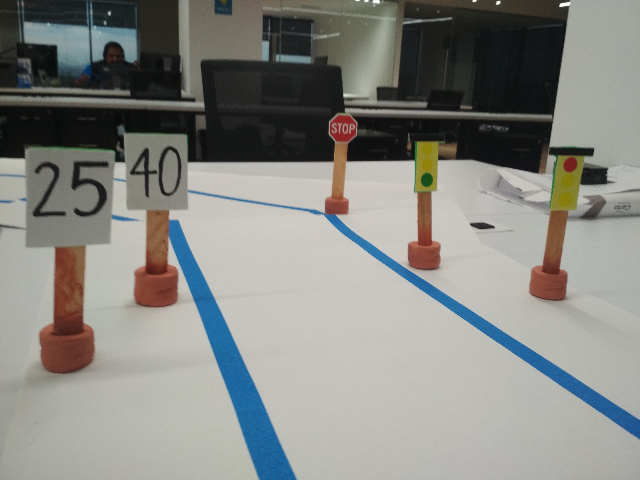Green Traffic Light: (407, 131, 446, 192)
Red Traffic Light: (543, 142, 596, 210)
Speed Limit 25: (24, 145, 117, 247)
Speed Limit 40: (124, 133, 190, 213)
Stop Sign: (324, 111, 360, 144)
